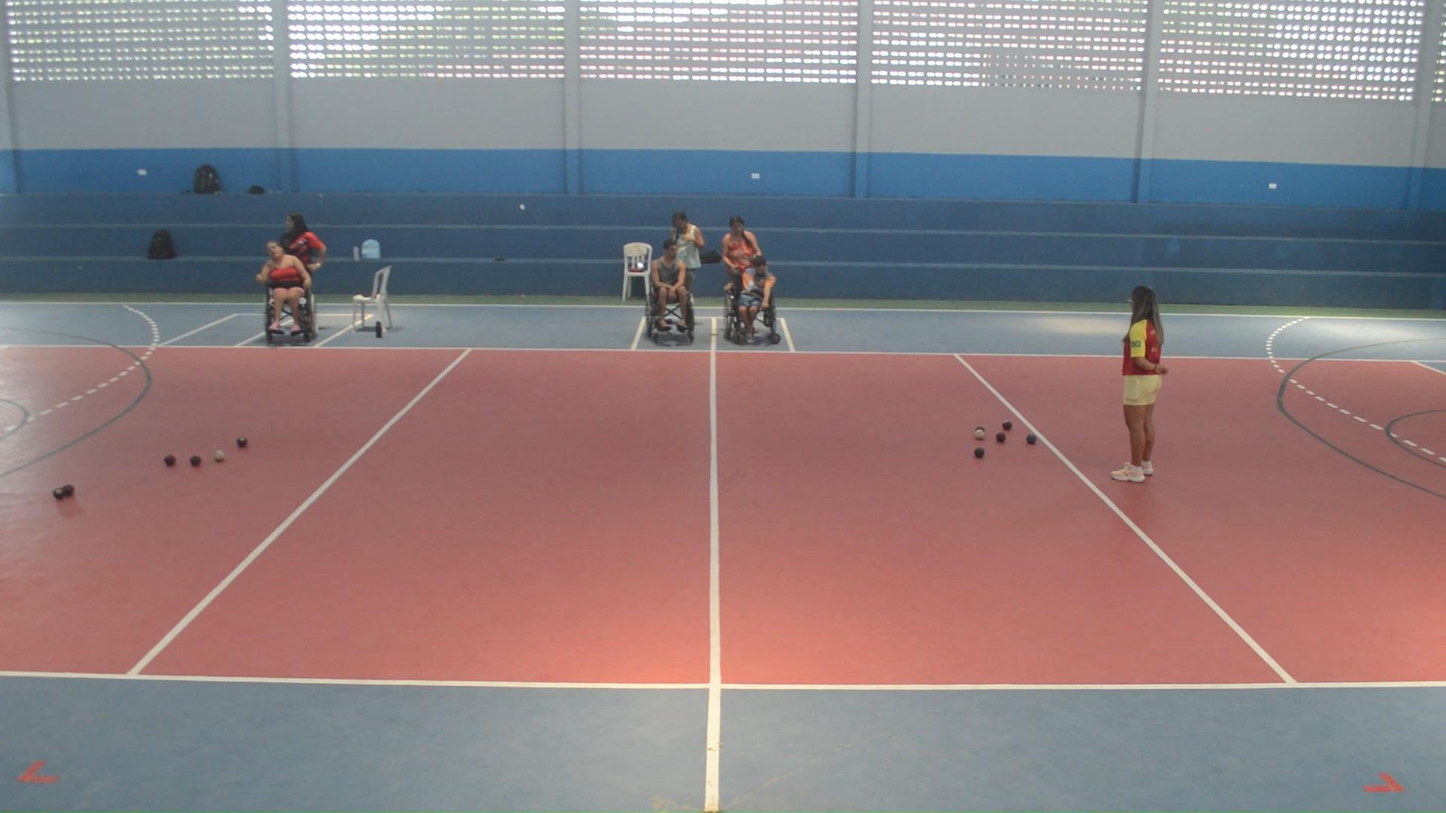blue_ball: (973, 446, 986, 459), (1025, 433, 1037, 445)
red_ball: (163, 454, 177, 467), (62, 484, 75, 497), (995, 431, 1007, 444), (1001, 419, 1013, 431)
white_ball: (212, 450, 226, 463), (974, 429, 986, 441)
